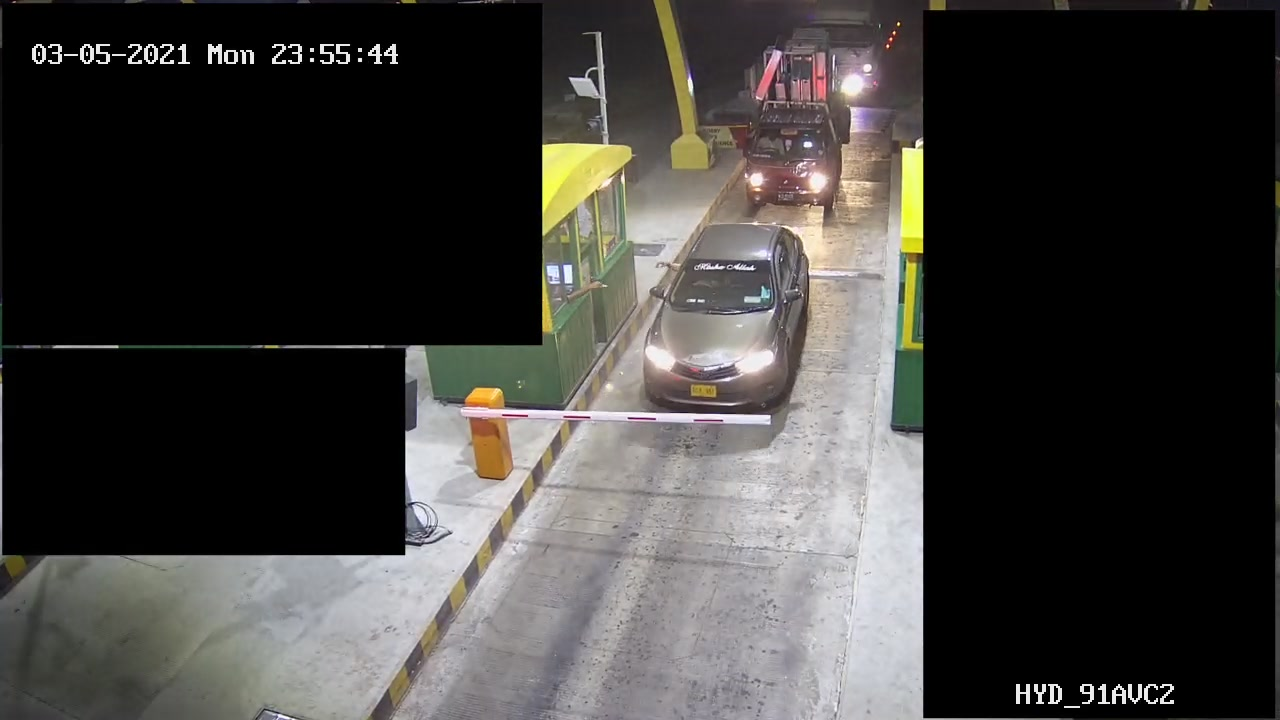F1: (633, 217, 810, 413)
F2: (722, 44, 854, 217)
